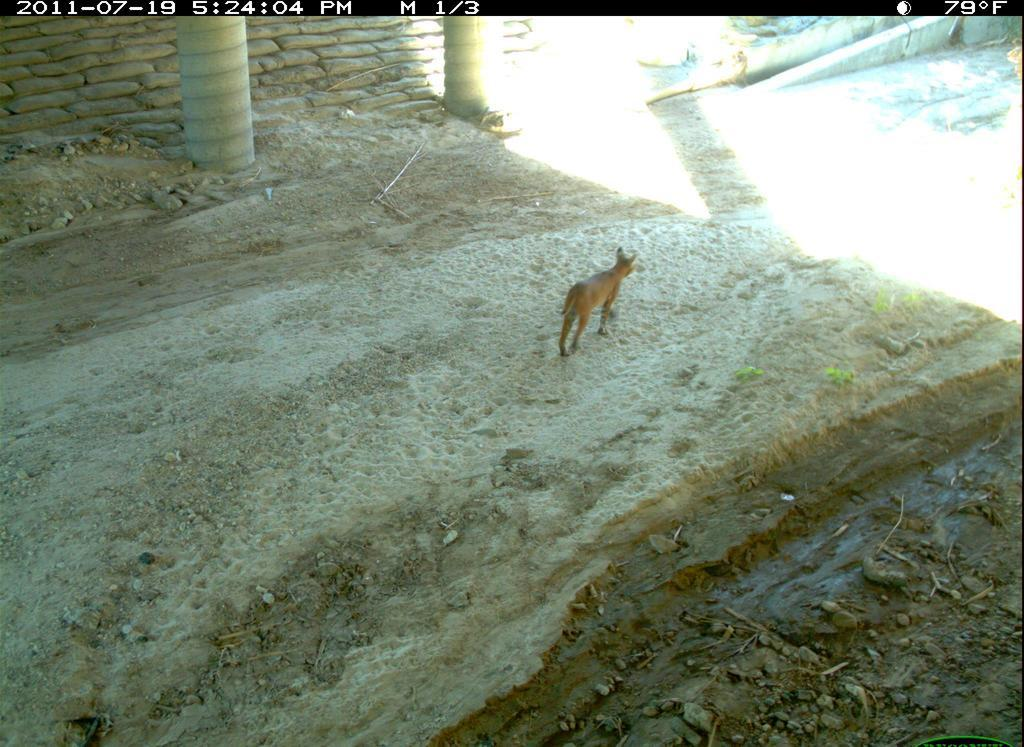bobcat: (549, 238, 645, 370)
